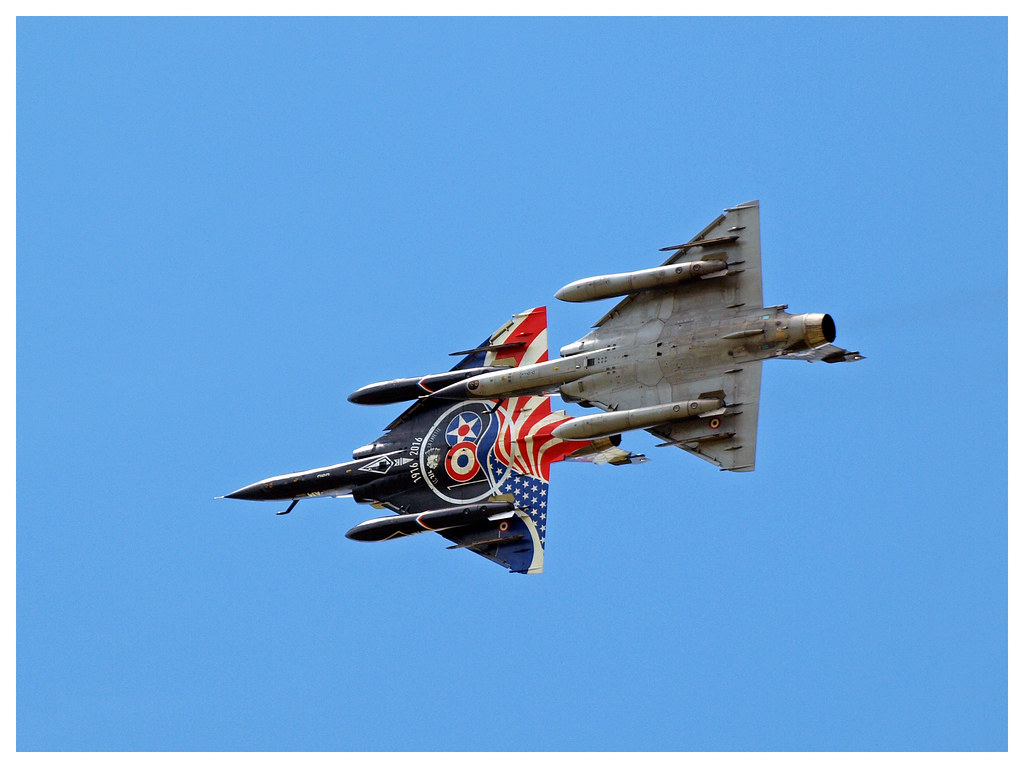Mirage2000: (418, 199, 868, 473), (213, 305, 653, 575)
